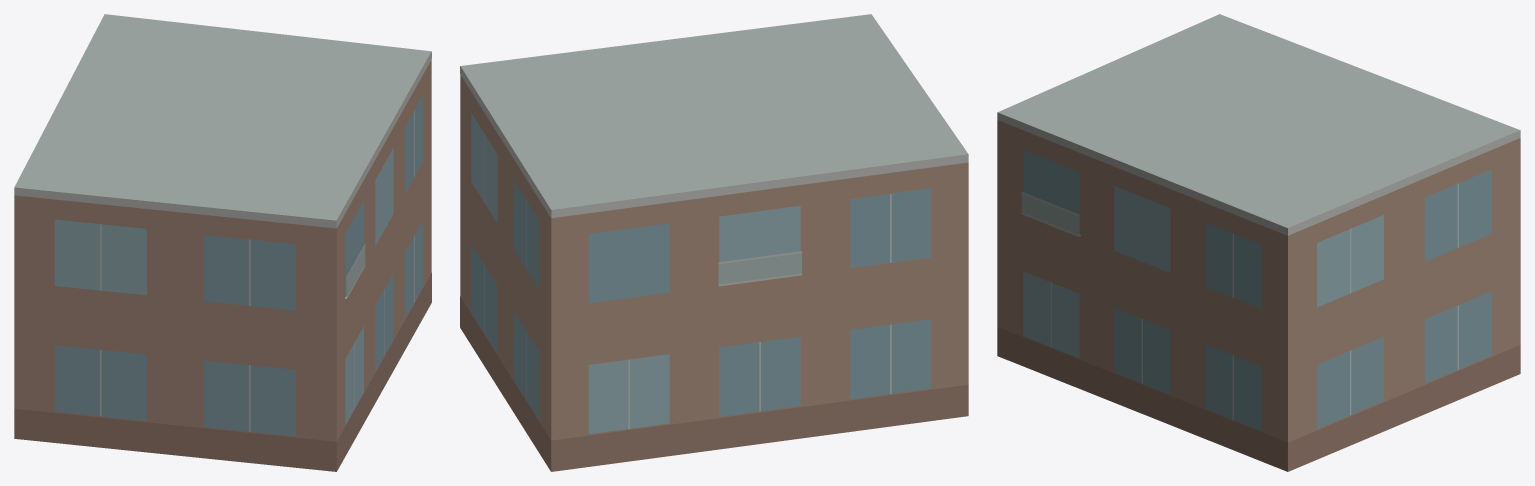
The model's file is survey-upis-32749090.glb.
The picture shows the model from 3 angles, left to right: view 1: azimuth 30°, elevation 25°; view 2: azimuth 150°, elevation 25°; view 3: azimuth 270°, elevation 25°; orthographic projection. The views are drawn at different scales.
Parts seen in each view (by area): view 1: survey-upis-32749090.tmp; view 2: survey-upis-32749090.tmp; view 3: survey-upis-32749090.tmp.
Part boxes in pixels (left/top/right/bottom): survey-upis-32749090.tmp: left=14, top=14, right=431, bottom=471; survey-upis-32749090.tmp: left=460, top=14, right=968, bottom=471; survey-upis-32749090.tmp: left=997, top=14, right=1520, bottom=471.
Size of the model in its own units: 14.72 by 7.8 by 15.19.
